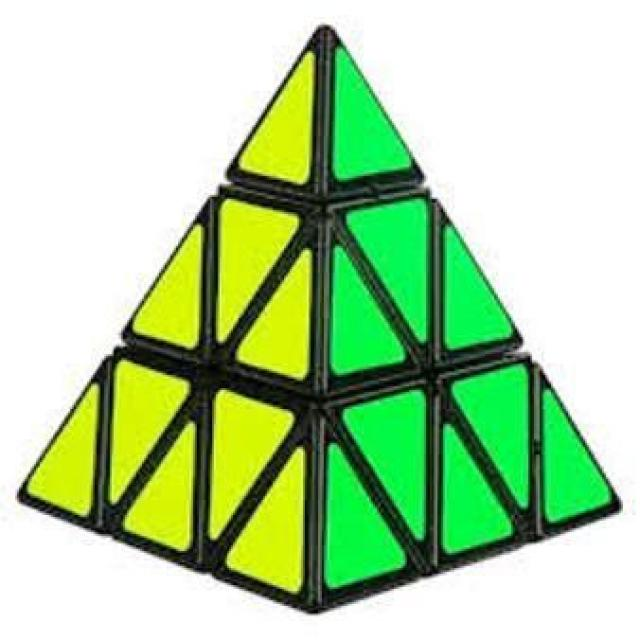Pyraminx: (8, 11, 628, 615)
